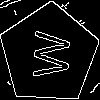W: (24, 29, 71, 79)
